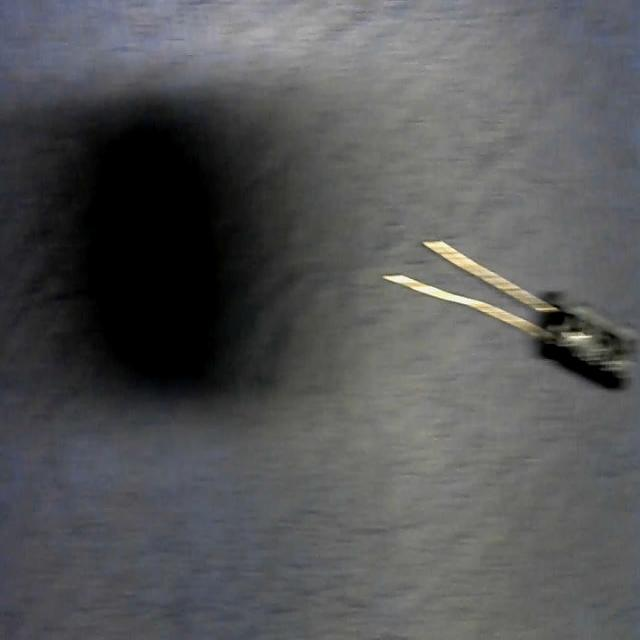capacitor: (386, 237, 634, 388)
